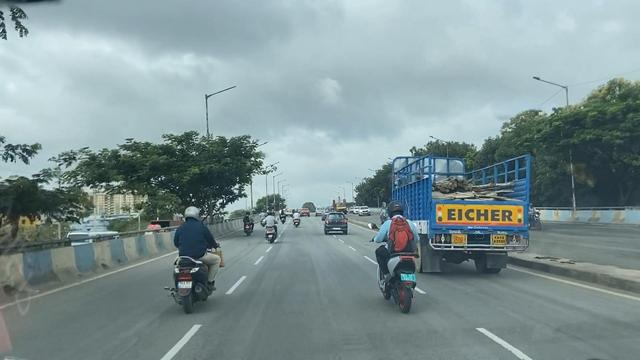LMV: (179, 207, 219, 306), (380, 208, 417, 309), (324, 212, 345, 236), (263, 214, 280, 240)
